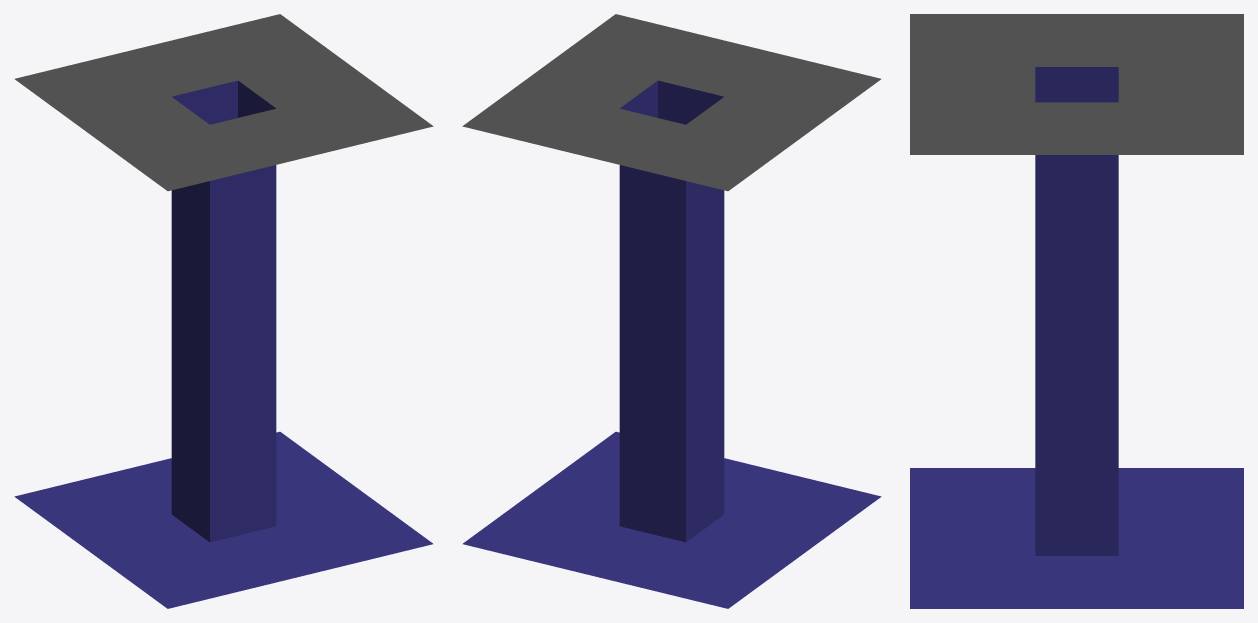
Rendered from Cleptomaniac MarktMedia Pillar (Inside).FBX.
3 renders of one model, left to right at view 1: azimuth 30°, elevation 25°; view 2: azimuth 150°, elevation 25°; view 3: azimuth 270°, elevation 25°, orthographic. The views are drawn at different scales.
Parts seen in each view (by area): view 1: Pillar (Inside); view 2: Pillar (Inside); view 3: Pillar (Inside).
Part boxes in pixels (box(x1,y1,x2,y2)): Pillar (Inside): box(14, 14, 433, 608); Pillar (Inside): box(462, 14, 881, 608); Pillar (Inside): box(910, 14, 1243, 608).
Bounding box in the file's own units: 2 × 3 × 2.
